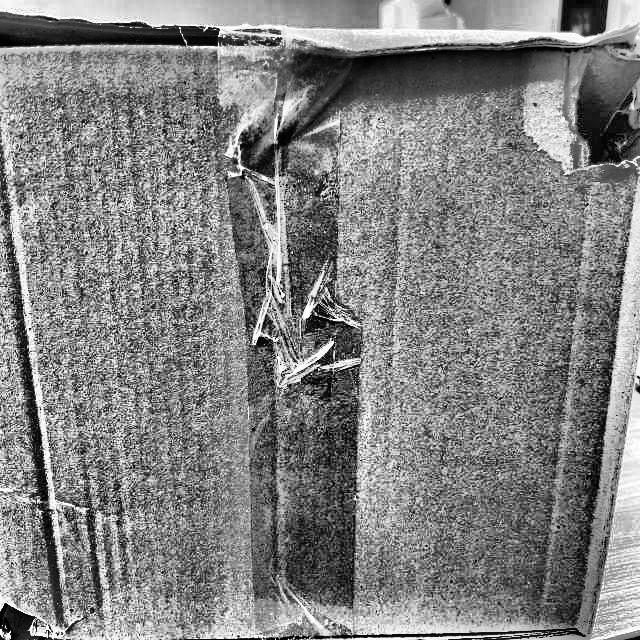box: (0, 7, 640, 640)
hole: (552, 37, 640, 171), (0, 600, 56, 639)
